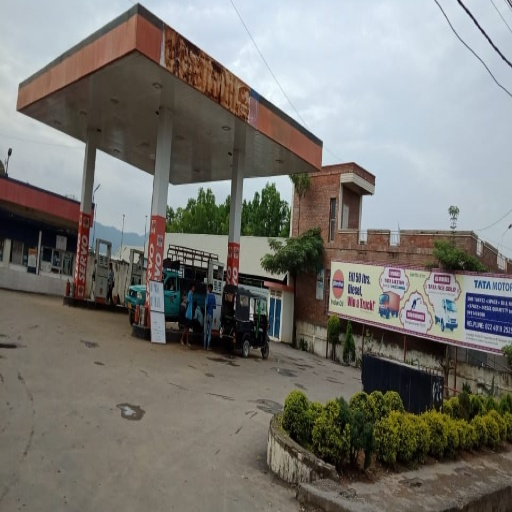roof: (17, 15, 326, 180)
